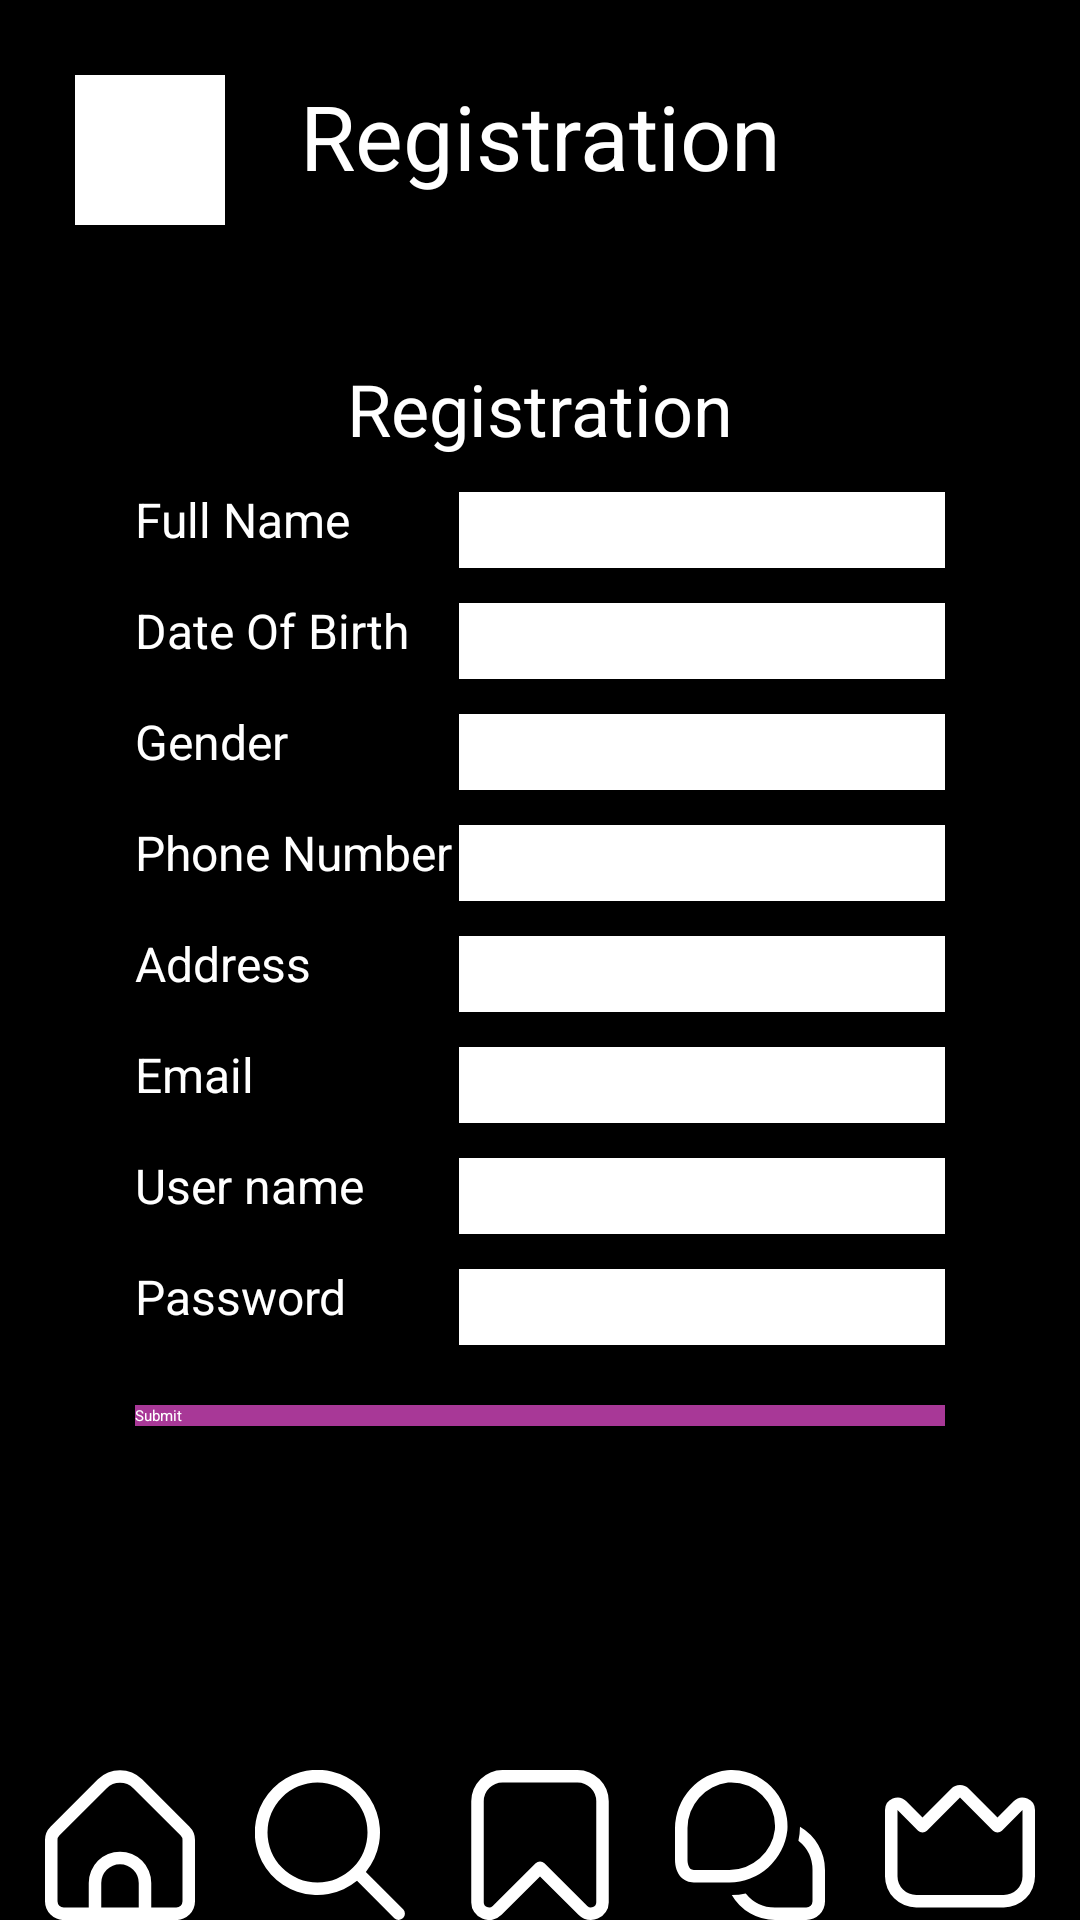

Named icons in this screenshot (1080w x 1920h) and their centers, (x,y):
Chat: (750,1845)
Home: (120,1845)
Premium: (960,1846)
Save List: (540,1845)
Search: (330,1845)
